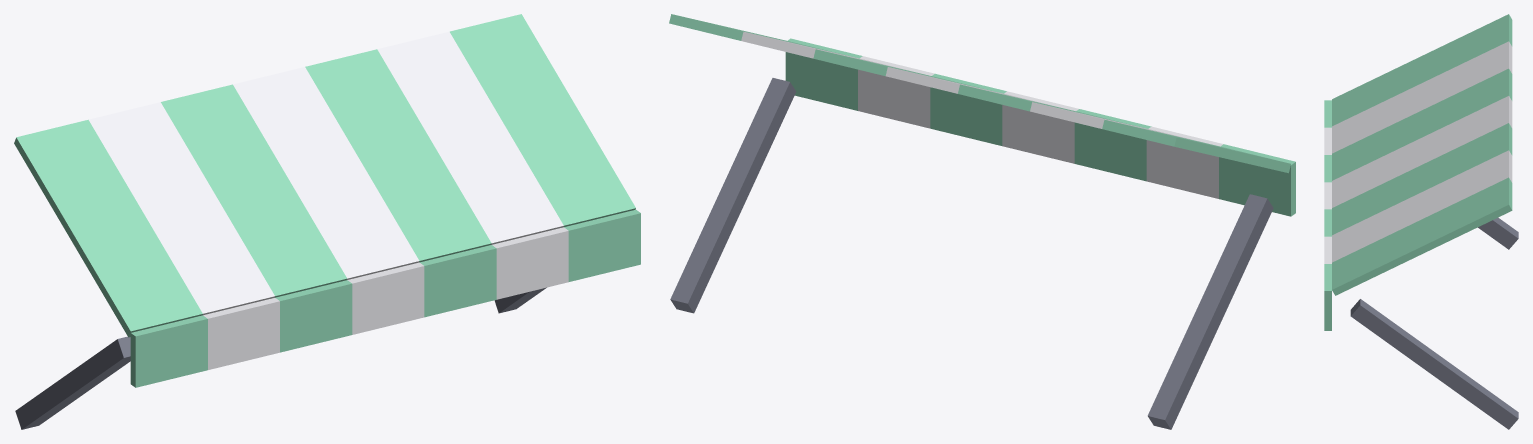
File: awning-striped.glb
3 renders of one model, left to right at view 1: azimuth 30°, elevation 25°; view 2: azimuth 150°, elevation 25°; view 3: azimuth 270°, elevation 25°, orthographic. The views are drawn at different scales.
Visible parts, largest first — view 1: awning-striped; view 2: awning-striped; view 3: awning-striped.
Part boxes in pixels (<box>): awning-striped: <box>14,14,640,429</box>; awning-striped: <box>669,14,1295,429</box>; awning-striped: <box>1324,14,1518,429</box>.
Bounding box in the file's own units: 0.72 × 0.4002 × 0.3101.
1 material, 1 textured.
